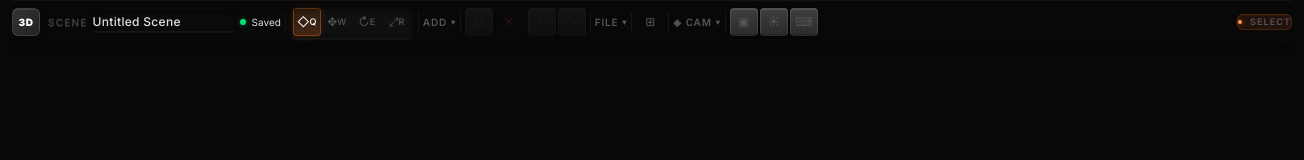
Scenario: Toolbar Accessibility › snap toggle aria-label changes with state
Step 1. Click the button named "Enable grid snap" → click(650, 22), box [636, 8, 664, 36]
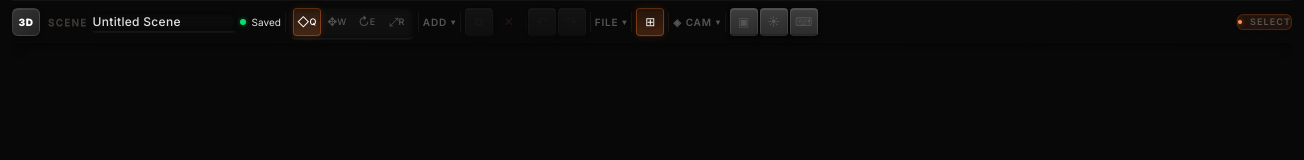
Now the button named "Disable grid snap" is shown, box [636, 8, 664, 36]
